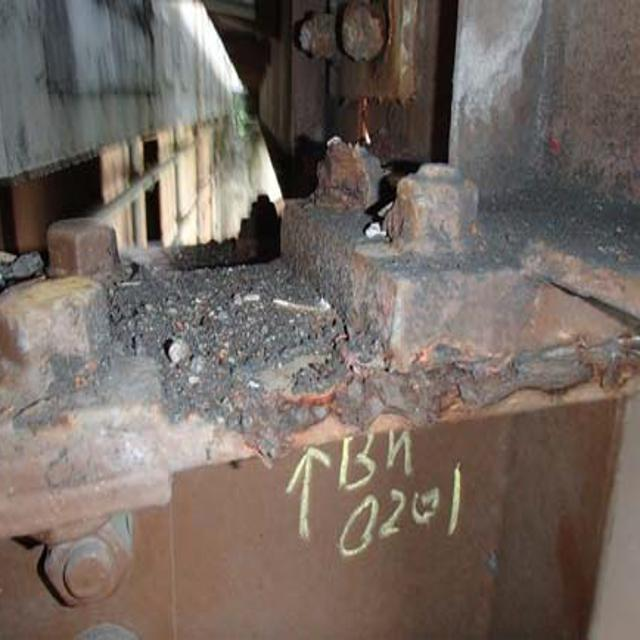corrosion: (54, 19, 572, 437)
